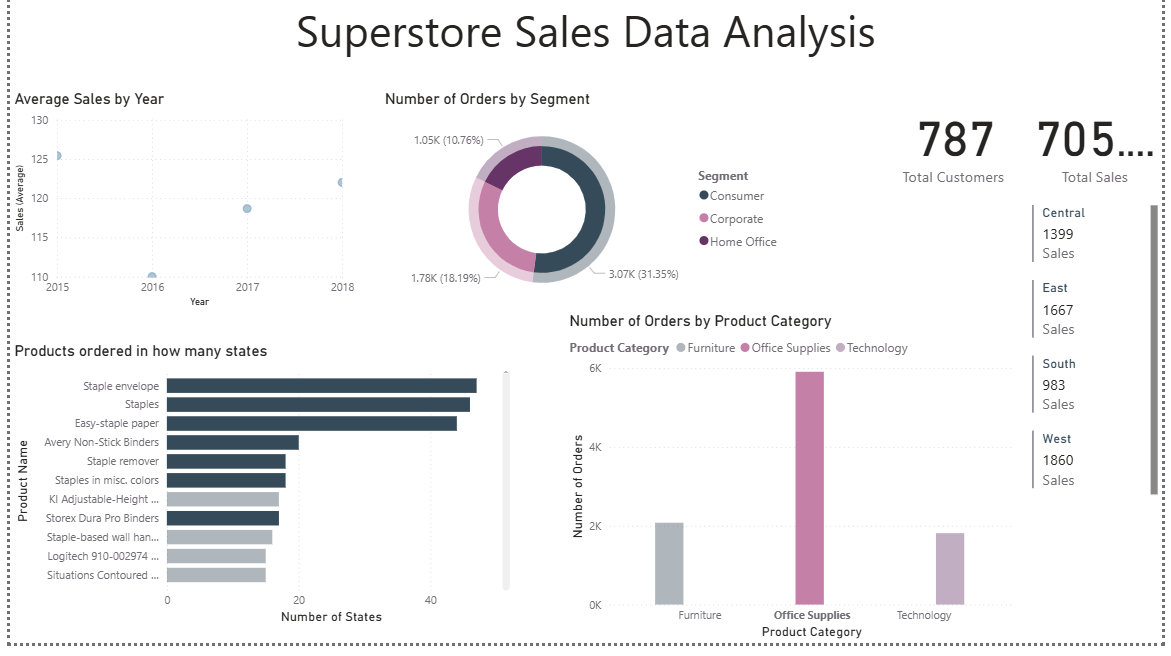

This screenshot's page, from the dashboard's own definition file:
{"tool":"powerbi","page":{"name":"Page 1","canvas":[1280,720],"ordinal":0},"visuals":[{"type":"scatterChart","title":"Average Sales by Year","fields":{"Y":["Avg(train.Sales)"],"X":["train.Order Year"]},"box":[0,105,386.7,246.7],"z":0},{"type":"card","fields":{"Values":["Count(train.Customer ID)"]},"box":[970,105,160,116.7],"z":1000},{"type":"clusteredBarChart","title":"Products ordered in how many states","fields":{"Category":["train.Product Name"],"Y":["CountNonNull(train.State)"]},"box":[0,385,560,318.3],"z":2000},{"type":"multiRowCard","fields":{"Values":["train.Region","CountNonNull(train.Sales (bins))"]},"box":[1130,228.3,150,343.3],"z":3000},{"type":"clusteredColumnChart","title":"Number of Orders by Product Category ","fields":{"Category":["train.Category","train.Sub-Category"],"Y":["CountNonNull(train.Order ID)"],"Series":["train.Category"]},"box":[616.7,351.7,503.3,368.3],"z":4000},{"type":"card","fields":{"Values":["Sum(train.Sales)"]},"box":[1130,105,150,116.7],"z":5000},{"type":"donutChart","fields":{"Series":["train.Segment"],"Y":["CountNonNull(train.Order ID)"]},"box":[411.7,105,455,246.7],"z":6000},{"type":"textbox","box":[0,0,1280,81.7],"z":7000}]}

Visuals, with their boxes in screenshot pixels (x1, y1, x2, y2), scaled from the page's 1280x720 canvas onto the 1171x656 screenshot:
"Average Sales by Year" scatterChart: box(0, 96, 354, 320)
card - Count(train.Customer ID): box(887, 96, 1034, 202)
"Products ordered in how many states" clusteredBarChart: box(0, 351, 512, 641)
multiRowCard - train.Region x CountNonNull(train.Sales (bins)): box(1034, 208, 1170, 521)
"Number of Orders by Product Category " clusteredColumnChart: box(564, 320, 1025, 655)
card - Sum(train.Sales): box(1034, 96, 1170, 202)
donutChart - train.Segment x CountNonNull(train.Order ID): box(377, 96, 793, 320)
textbox: box(0, 0, 1170, 74)
